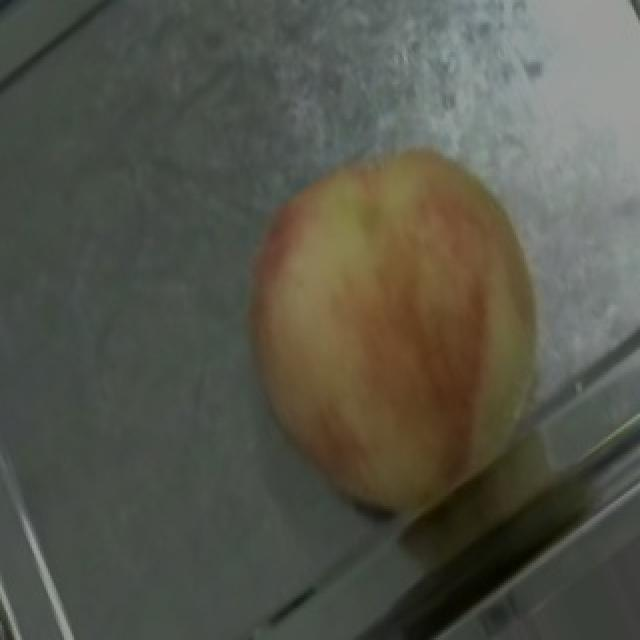Fruit: (208, 109, 594, 491)
